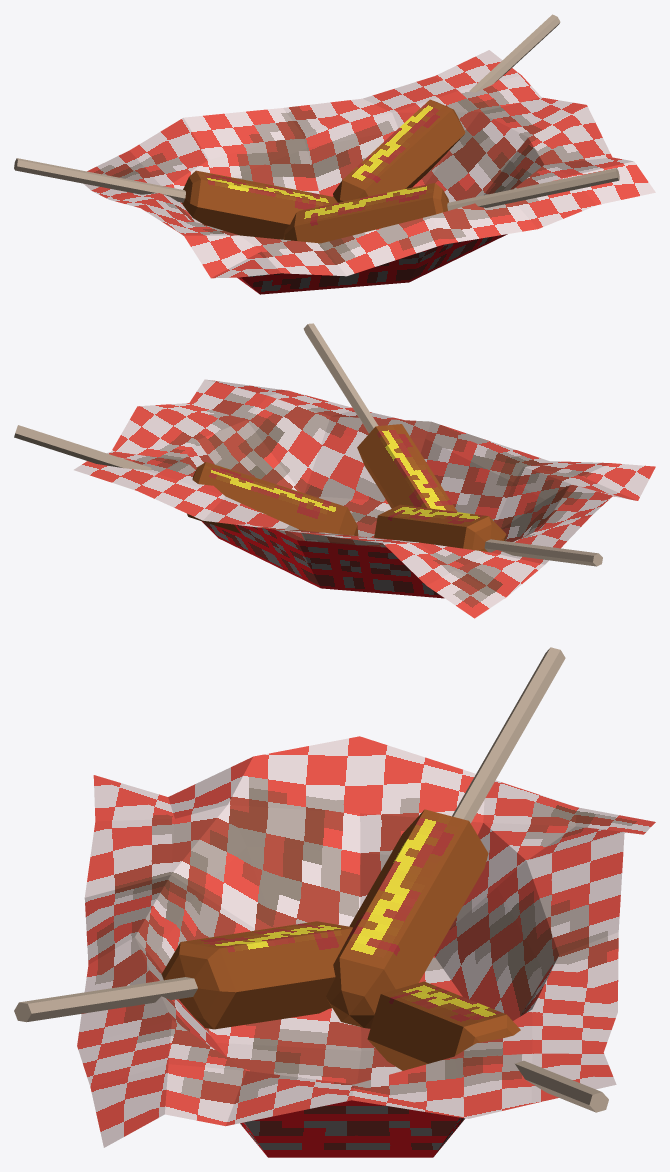
File: LambdogsBasket.fbx
3 views of the same model, one above another, from view 1: azimuth 30°, elevation 25°; view 2: azimuth 150°, elevation 25°; view 3: azimuth 270°, elevation 25° (orthographic). The views are drawn at different scales.
Visible parts, largest first — view 1: Food Basket.001, LambDog.003, LambDog.002, LambDog.001; view 2: Food Basket.001, LambDog.002, LambDog.001, LambDog.003; view 3: Food Basket.001, LambDog.003, LambDog.001, LambDog.002.
Boxes of the visible parts, x1,y1,x2,y2 form: Food Basket.001: (83,50,655,294); LambDog.003: (14,158,337,239); LambDog.002: (333,14,560,202); LambDog.001: (283,168,619,243); Food Basket.001: (74,379,655,618); LambDog.002: (14,425,358,535); LambDog.001: (303,323,457,511); LambDog.003: (374,504,602,566); Food Basket.001: (77,736,655,1157); LambDog.003: (326,647,565,1028); LambDog.001: (14,921,352,1029); LambDog.002: (367,981,608,1112).
Size of the model in its own units: 69 by 13.06 by 41.55.
